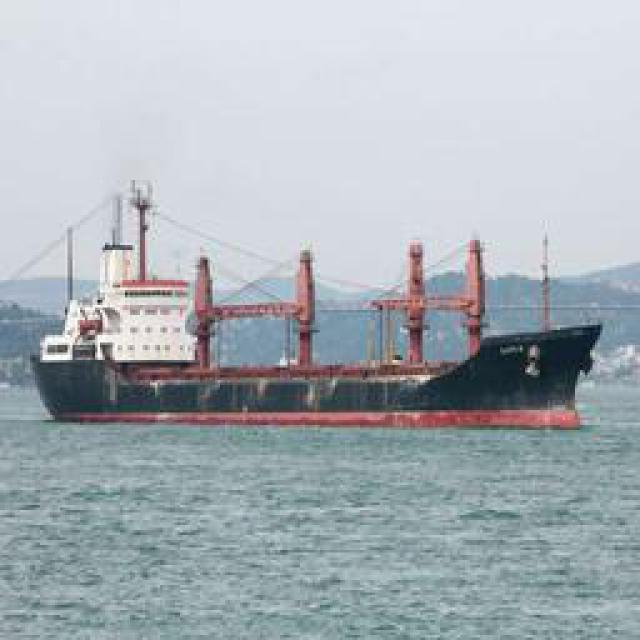Ship: (37, 210, 600, 433)
